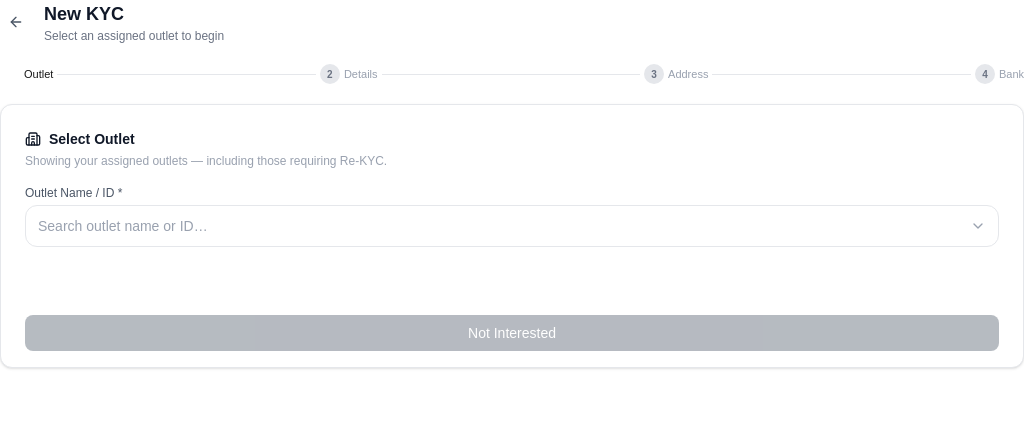
Test: New KYC — outlet picker only lists not-yet-submitted outlets › shows NOT_STARTED, hides submitted/under-review/approved/rejected/re-KYC
Step 1. Click the button with test id "outlet-dropdown-trigger" → (123, 226), box [25,205,999,247]
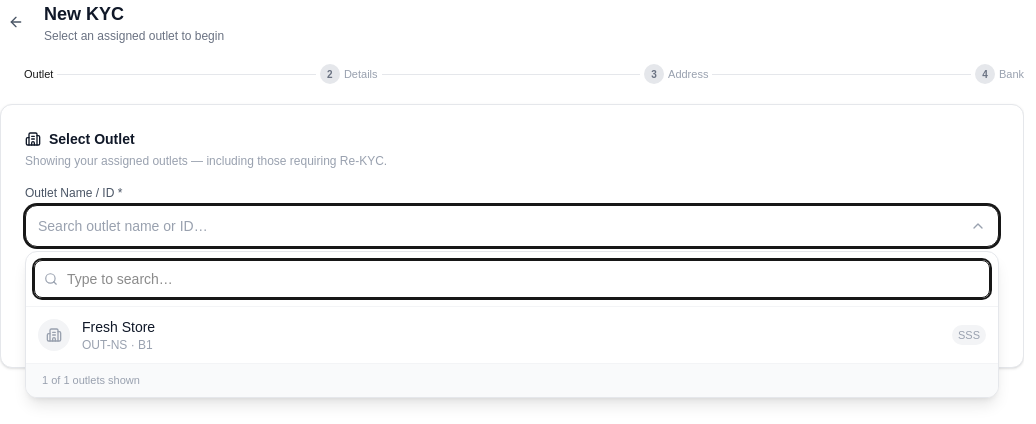
Check: the button with test id "outlet-option-o-ns" is shown, box [38,317,986,353]
Check: the text "1 of 1 outlets shown" is shown, box [42,374,140,386]
